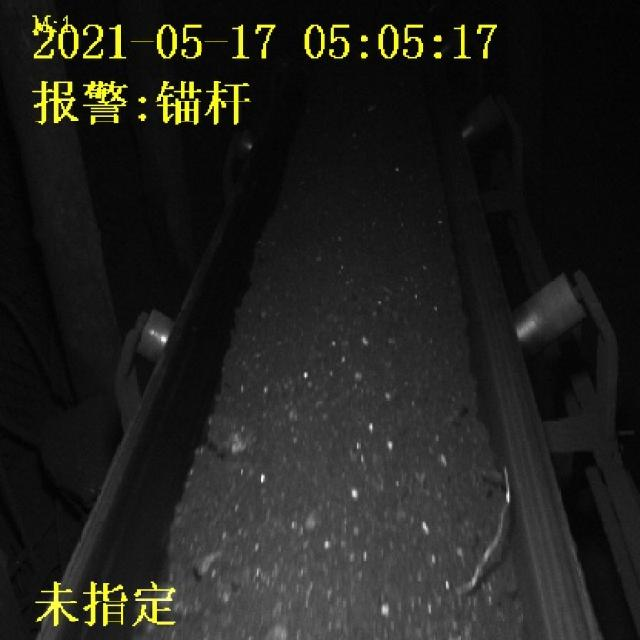bolt: (457, 476, 515, 596)
large_sized_coal: (206, 409, 259, 458)
